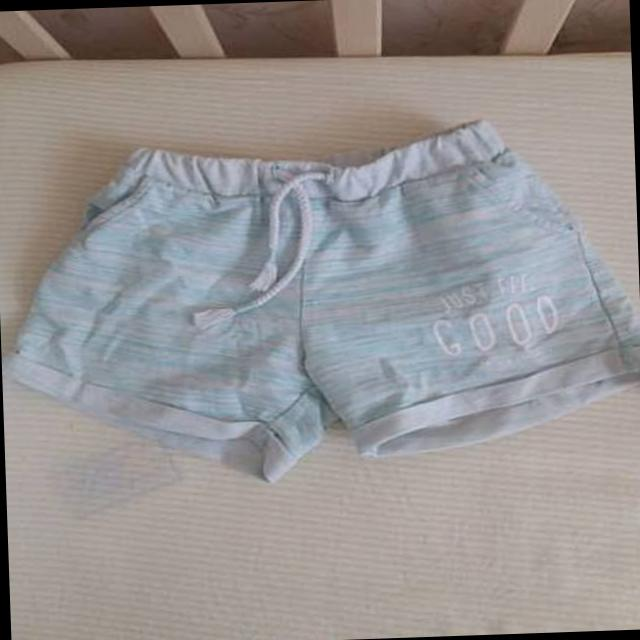SHORT: (3, 106, 640, 493)
